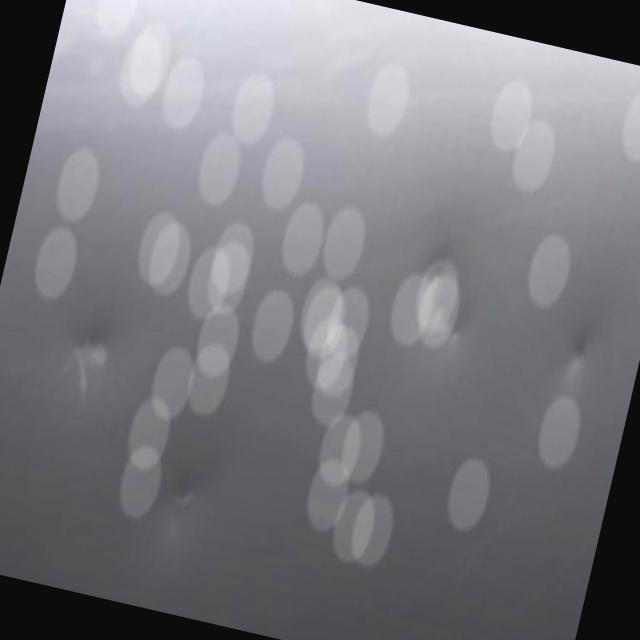dent: (541, 324, 630, 399), (162, 466, 214, 540), (63, 323, 110, 371)
